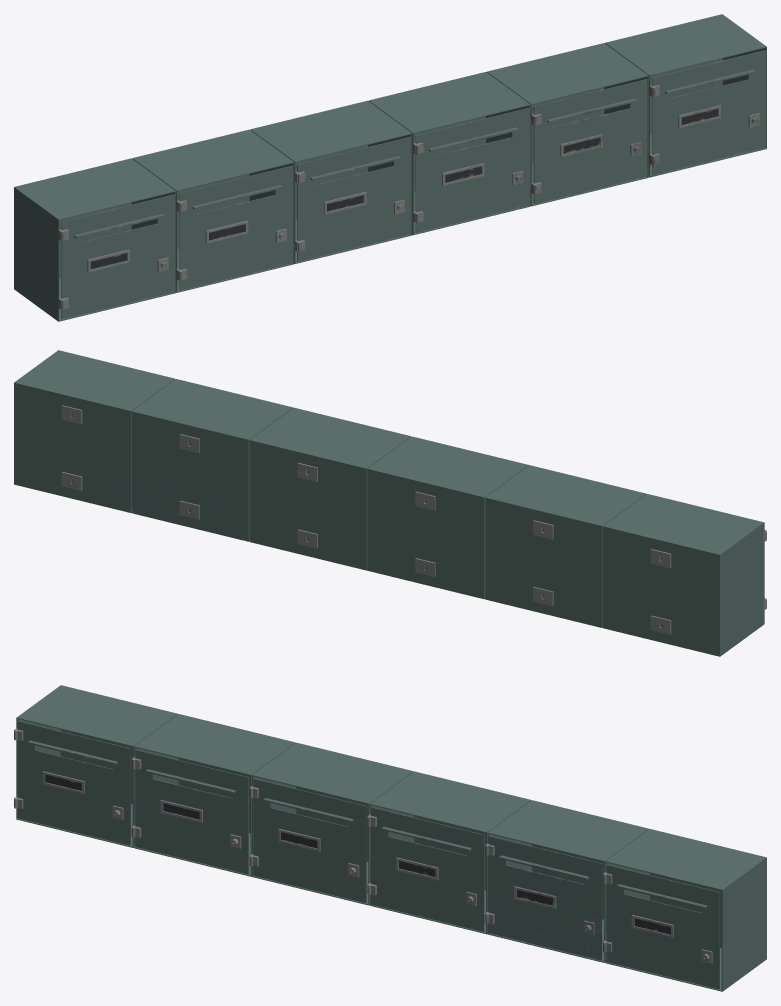
The model's file is apartment_mailboxes_row.glb.
3 renders of one model, top to bottom at view 1: azimuth 30°, elevation 25°; view 2: azimuth 150°, elevation 25°; view 3: azimuth 330°, elevation 25°, orthographic.
Parts seen in each view (by area): view 1: ApartmentMailboxesRow; view 2: ApartmentMailboxesRow; view 3: ApartmentMailboxesRow.
Part boxes in pixels (left/top/right/bottom): ApartmentMailboxesRow: left=14, top=14, right=766, bottom=321; ApartmentMailboxesRow: left=14, top=350, right=766, bottom=656; ApartmentMailboxesRow: left=14, top=685, right=766, bottom=991.
Size of what is drawn, in the model's own units: 1.8 by 0.248 by 0.217.
Materials: 1 (1 with a texture image).
